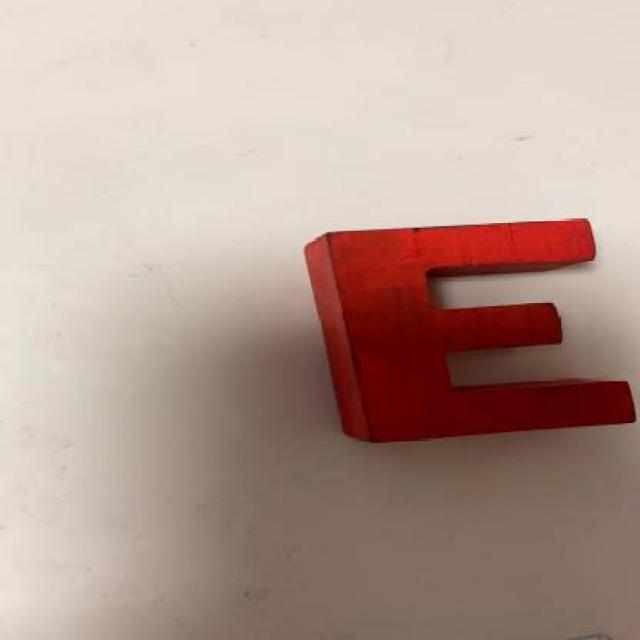E: (298, 218, 636, 442)
